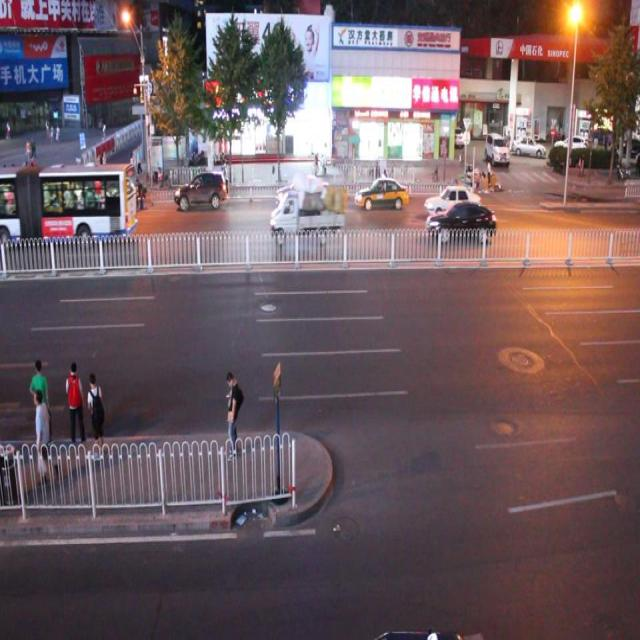bus: (269, 184, 344, 244)
car: (425, 200, 494, 246), (423, 183, 480, 221), (175, 170, 229, 210), (353, 176, 408, 210), (277, 174, 330, 209), (34, 190, 81, 225), (102, 177, 138, 213), (483, 133, 508, 168), (1, 184, 15, 220)
van: (1, 162, 138, 246)
